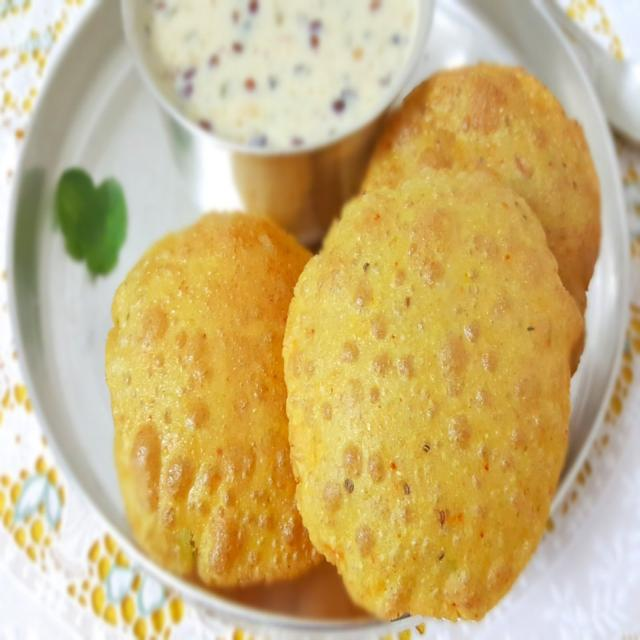puri: (108, 218, 595, 609), (403, 86, 608, 610)
